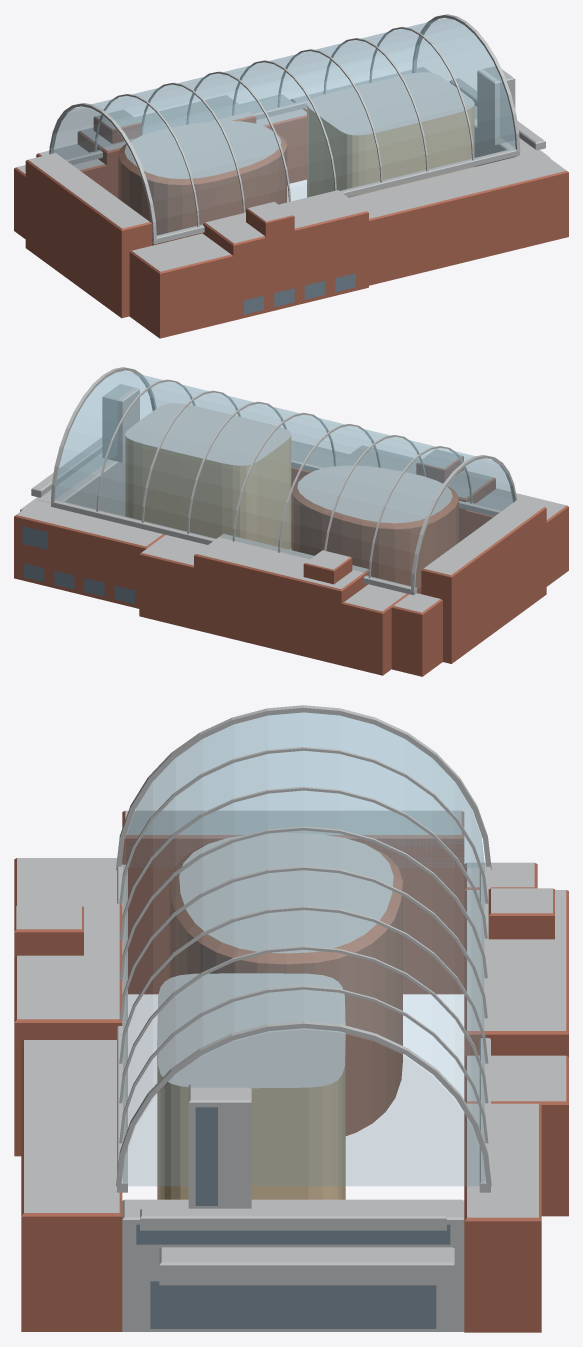
File: phl-kimmel-center.glb
3 views of the same model, one above another, from view 1: azimuth 30°, elevation 25°; view 2: azimuth 150°, elevation 25°; view 3: azimuth 270°, elevation 25° (orthographic). The views are drawn at different scales.
Parts seen in each view (by area): view 1: Kimmel Center; view 2: Kimmel Center; view 3: Kimmel Center.
Part boxes in pixels (bbox=[...]): Kimmel Center: bbox=[14, 14, 568, 338]; Kimmel Center: bbox=[14, 367, 568, 676]; Kimmel Center: bbox=[14, 705, 568, 1332].
Bounding box in the file's own units: 129 × 45.7 × 79.54.
